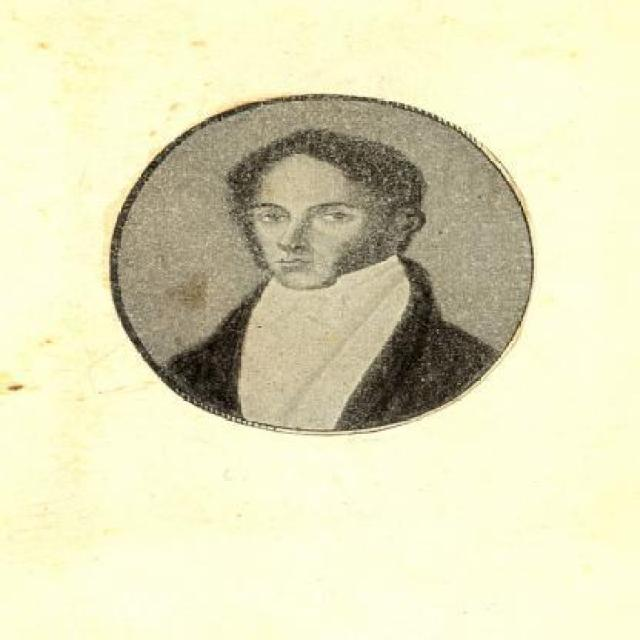Person: (158, 126, 510, 437)
